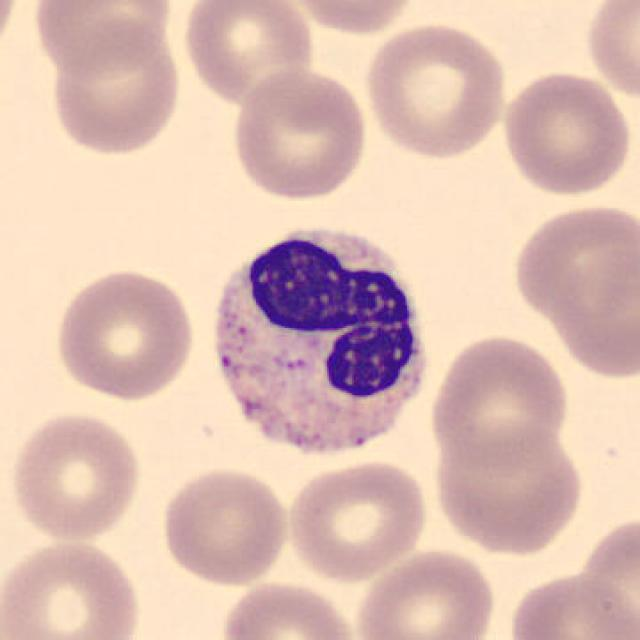Neutrophil: (199, 213, 441, 474)
RBC: (428, 422, 588, 558), (361, 19, 512, 162), (425, 330, 572, 472), (50, 264, 199, 402), (44, 18, 185, 160), (228, 65, 372, 203), (283, 456, 432, 584), (7, 407, 146, 543), (498, 67, 634, 197), (156, 464, 294, 589), (507, 201, 638, 321), (0, 534, 148, 640), (180, 0, 318, 108), (547, 231, 640, 382), (352, 546, 499, 640), (28, 0, 178, 78), (503, 567, 636, 640), (218, 576, 362, 640), (572, 509, 639, 640), (582, 0, 638, 106), (279, 0, 425, 37), (0, 0, 23, 67)
